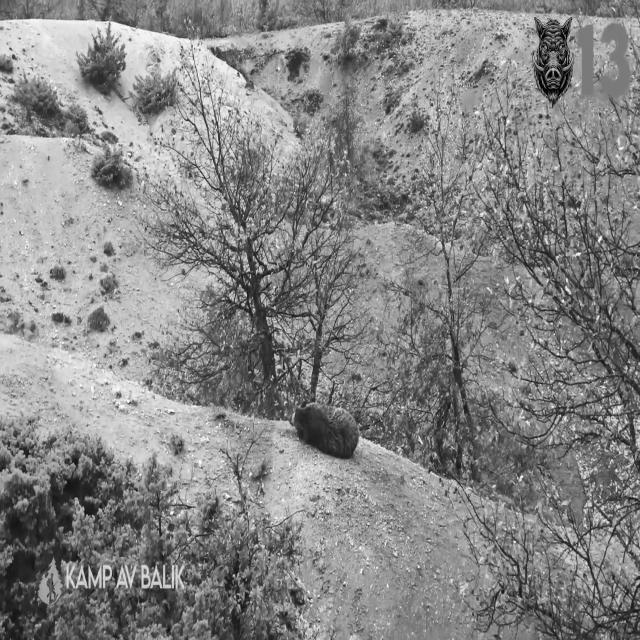boar: (294, 402, 358, 457)
